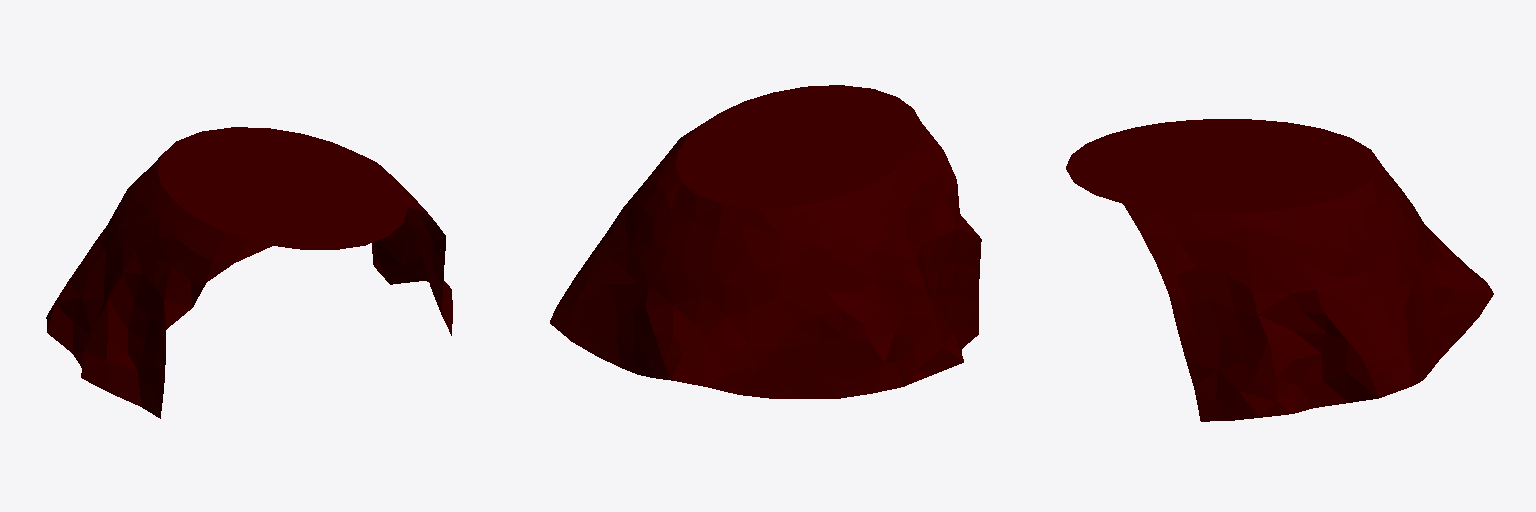
Rendered from God_crown_cloth.obj.
3 renders of one model, left to right at view 1: azimuth 30°, elevation 25°; view 2: azimuth 150°, elevation 25°; view 3: azimuth 270°, elevation 25°, orthographic.
Parts seen in each view (by area): view 1: object; view 2: object; view 3: object.
Boxes of the visible parts, x1=… form: object: x1=46, y1=127, x2=452, y2=418; object: x1=550, y1=85, x2=981, y2=398; object: x1=1066, y1=119, x2=1493, y2=421.
Bounding box in the file's own units: 0.2366 × 0.1089 × 0.2364.